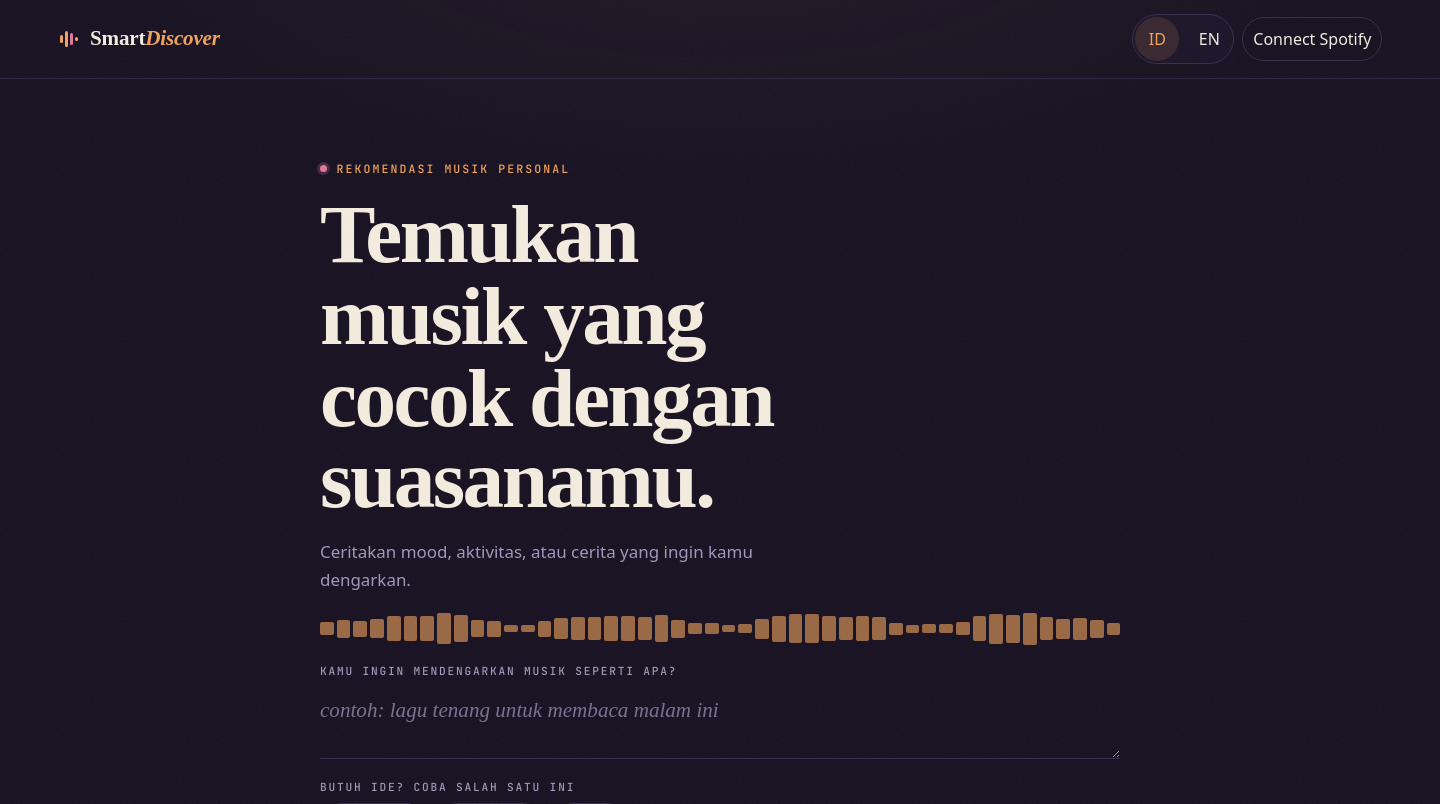
Test: App › enters error while preserving prompt values
Type "lagu untuk malam" into the text box labelled "Kamu ingin mendengarkan musik seperti apa?". click: [720, 722]
box: top-left (320, 685), bottom-right (1120, 758)
(page scrolled)
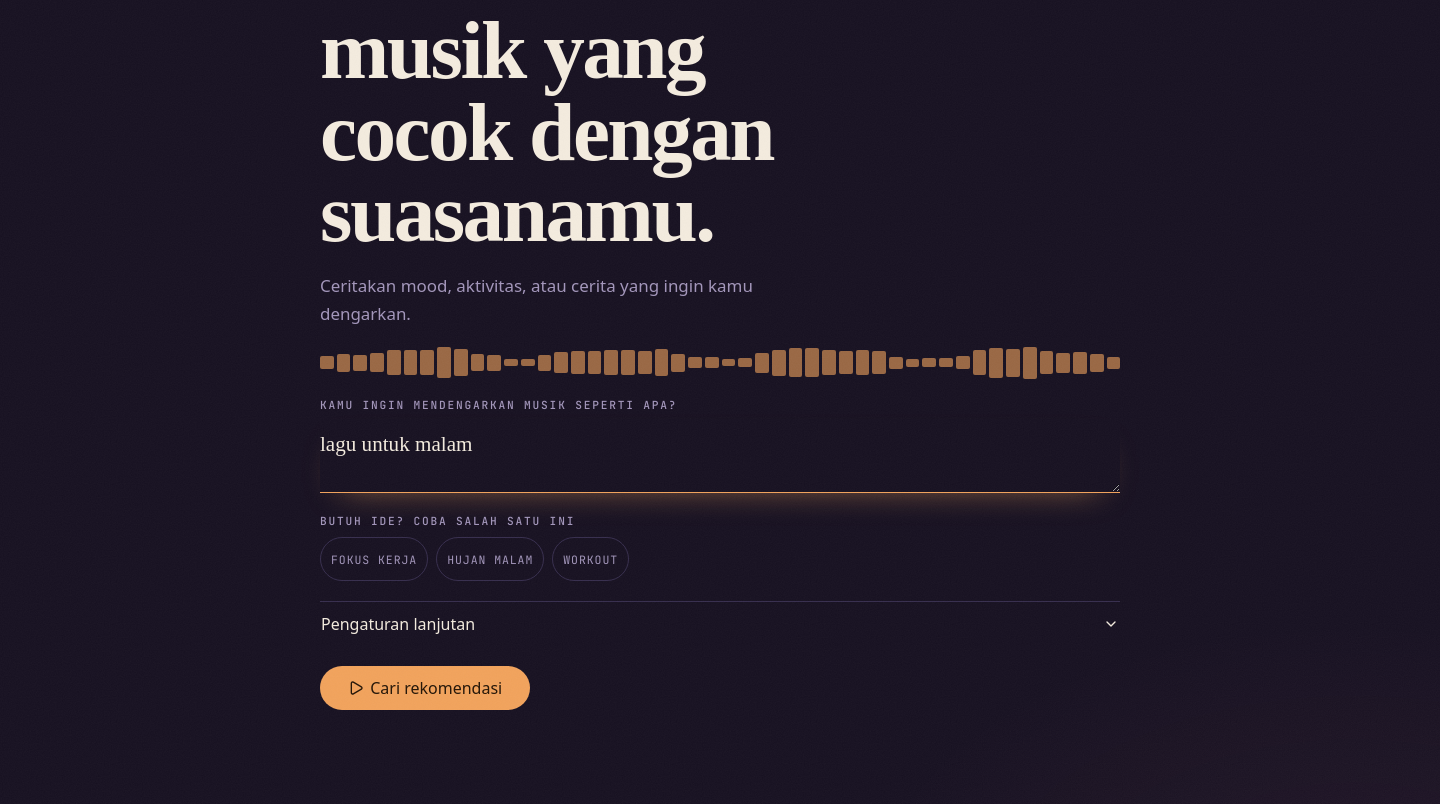
Click the button "Cari rekomendasi". click: [425, 688]
box: top-left (320, 666), bottom-right (530, 710)
(page scrolled)
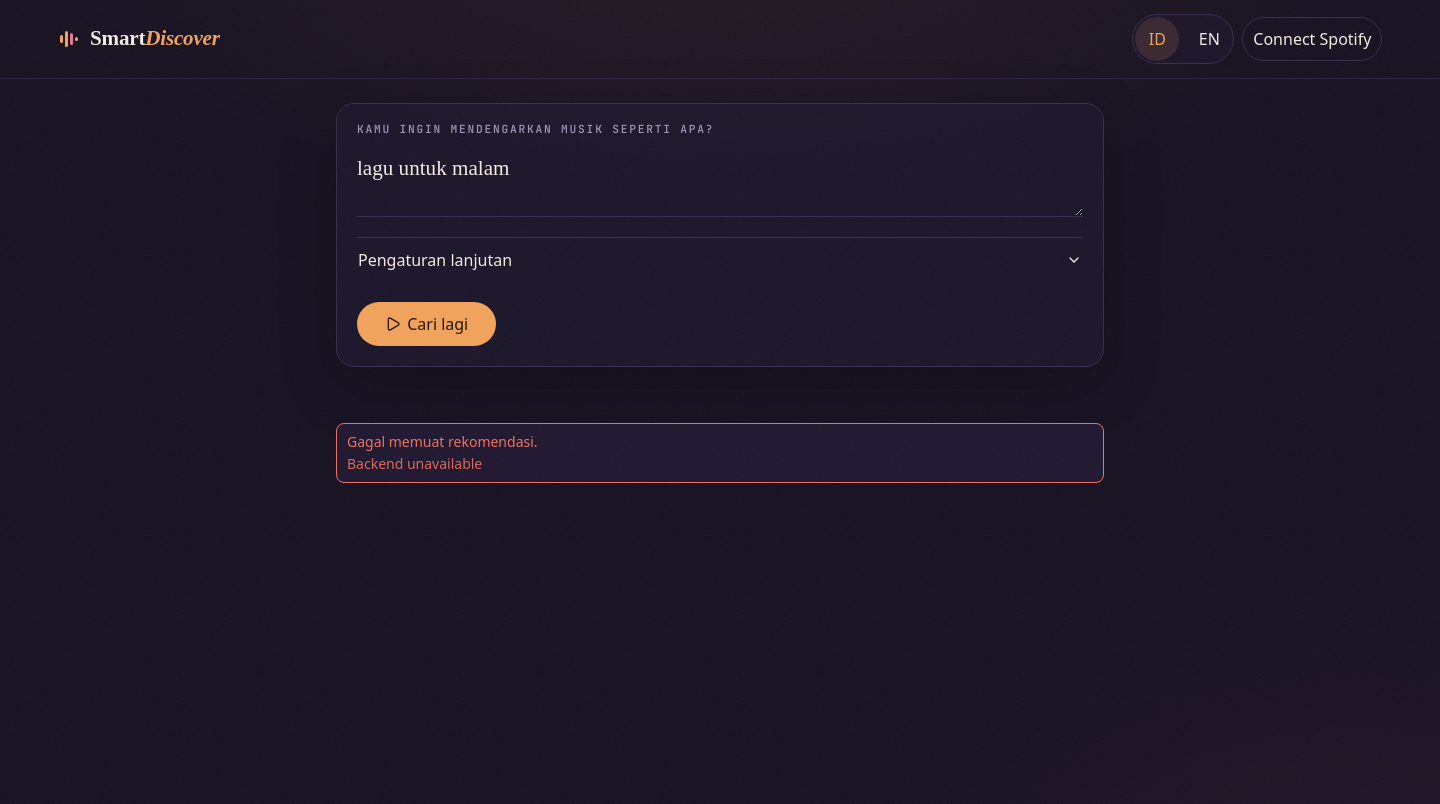
Expected: the text box labelled "Kamu ingin mendengarkan musik seperti apa?" is enabled, top-left (357, 143), bottom-right (1083, 217)
Result: the message shows "Backend unavailable" at top-left (347, 454), bottom-right (482, 473)
